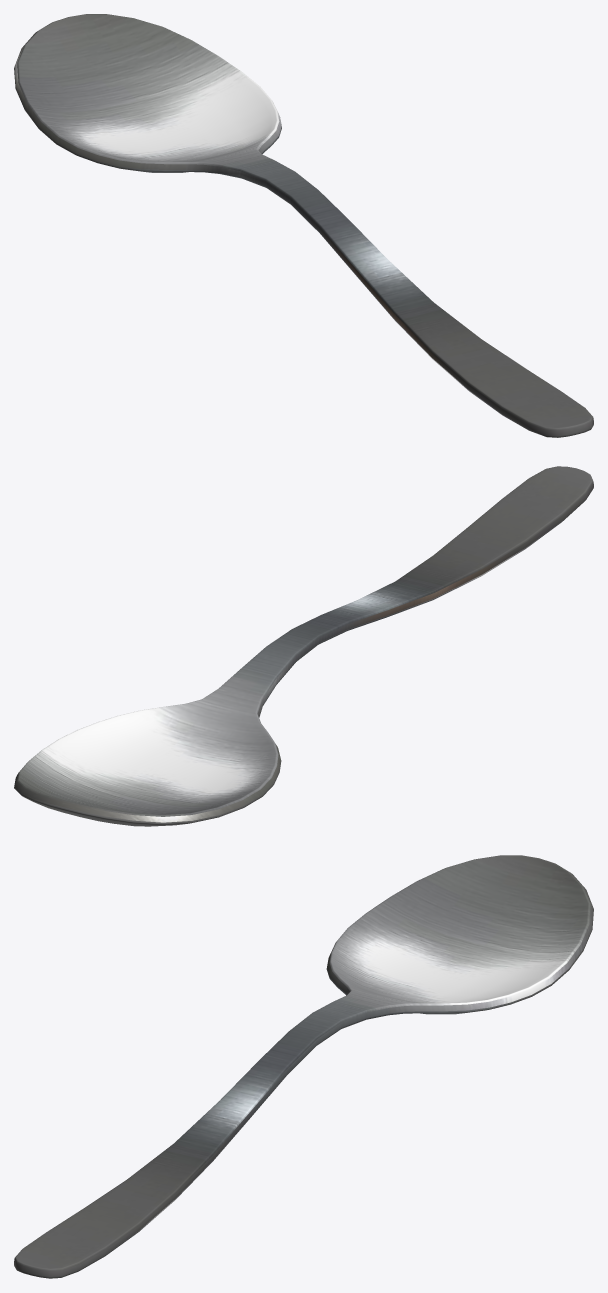
The model's file is Spoon.fbx.
The picture shows the model from 3 angles, top to bottom: view 1: azimuth 30°, elevation 25°; view 2: azimuth 150°, elevation 25°; view 3: azimuth 330°, elevation 25°; orthographic projection.
Visible parts, largest first — view 1: Tablespoon; view 2: Tablespoon; view 3: Tablespoon.
Boxes of the visible parts, bbox=[...] form: Tablespoon: bbox=[14, 14, 593, 437]; Tablespoon: bbox=[14, 466, 593, 826]; Tablespoon: bbox=[14, 855, 593, 1278].
Size of the model in its own units: 462 by 115 by 1975.
